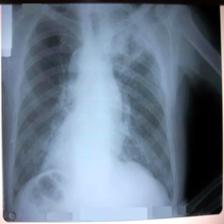tuberculosis: (11, 4, 177, 223)
